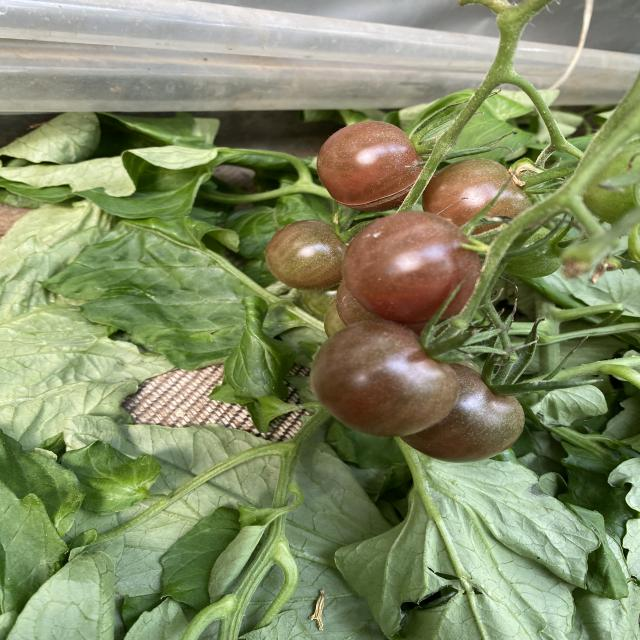kirmizi: (268, 117, 556, 470)
